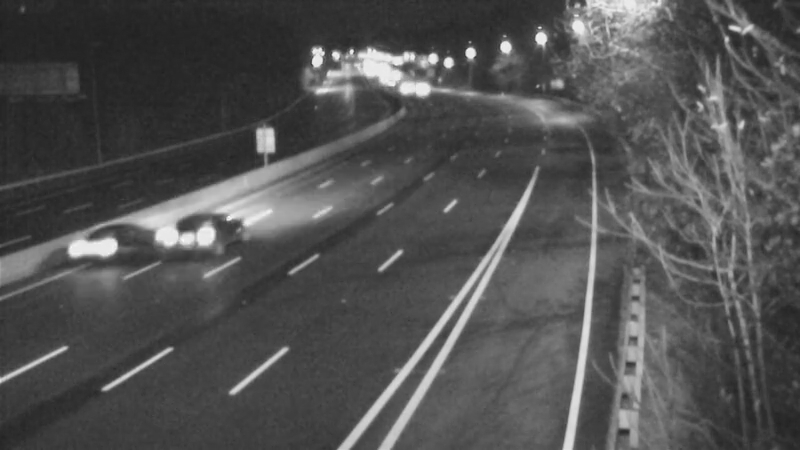vehicle: (157, 185, 237, 265), (60, 209, 140, 289), (377, 60, 427, 110), (395, 61, 445, 111)
